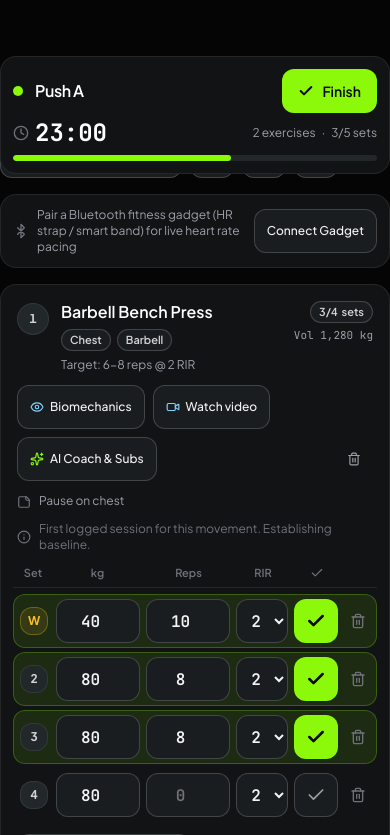
set completion and rest timer › completing a set updates progress, shows the completed state and starts the rest timer with the exercise rest
Click the button named "Complete set 4".
click(316, 795)  # box x1=294 y1=773 x2=338 y2=817
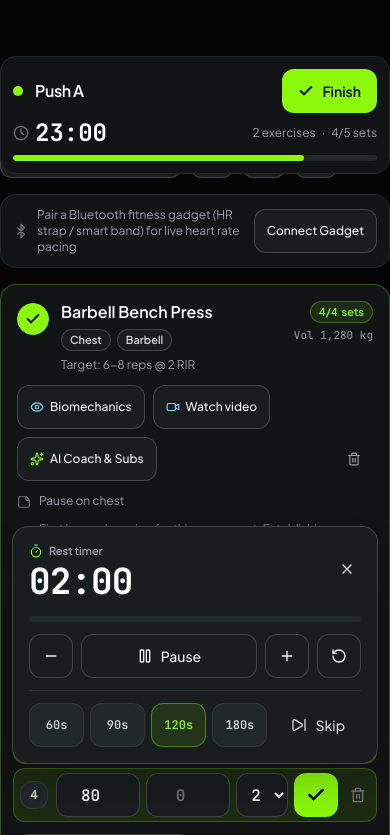
Now the text "4/5 sets" is shown, box x1=331 y1=125 x2=377 y2=140
Now the text "02:00" is shown, box x1=29 y1=559 x2=132 y2=604
